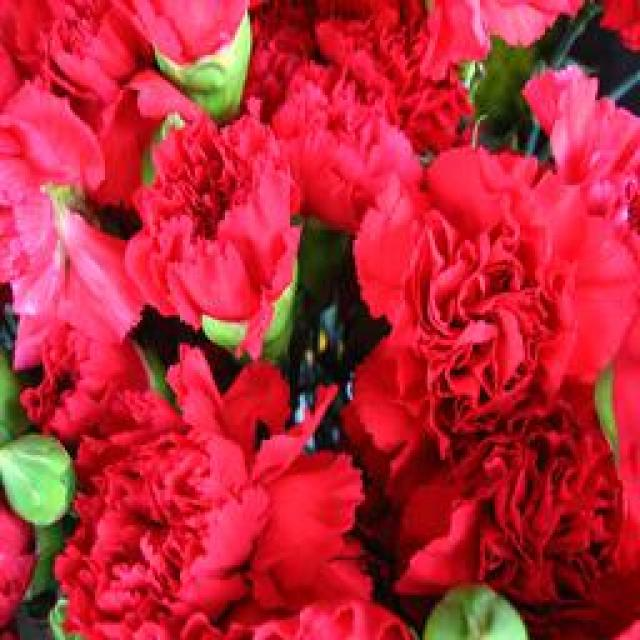carnation: (113, 102, 334, 358)
